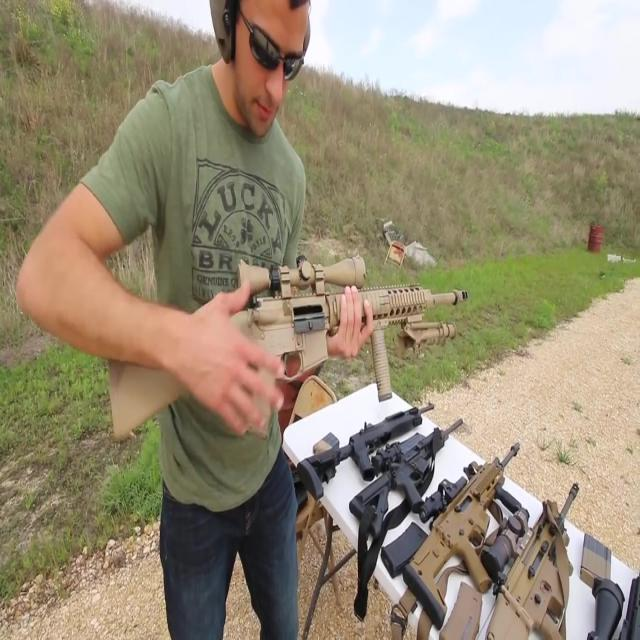Weapon: (242, 300, 640, 640), (73, 190, 507, 470)
